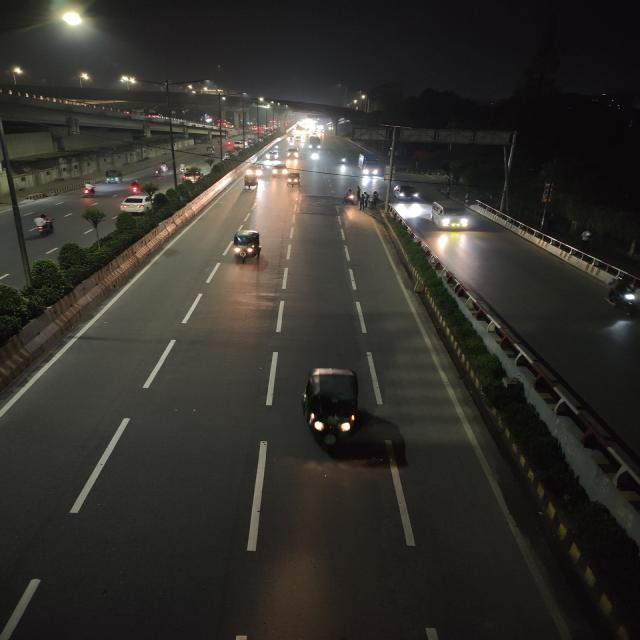bus: (309, 137, 322, 152)
car: (429, 199, 472, 232), (118, 196, 149, 213), (392, 185, 422, 202), (183, 170, 202, 184), (246, 165, 266, 178), (271, 164, 289, 178), (263, 150, 279, 162), (285, 148, 301, 158)
cng: (296, 362, 382, 466), (229, 227, 263, 266), (286, 172, 304, 190), (241, 173, 259, 190), (106, 168, 125, 184), (203, 147, 217, 156)
motorcycle: (29, 210, 58, 238), (79, 182, 98, 197), (127, 181, 143, 195), (147, 166, 163, 178), (338, 154, 349, 168), (160, 161, 168, 173), (177, 163, 184, 174)
pedestrian: (369, 192, 376, 208), (358, 192, 364, 210), (362, 192, 369, 206), (355, 186, 361, 201), (374, 190, 380, 200)
rickshaw: (342, 188, 356, 206)
truck: (356, 153, 381, 176)
